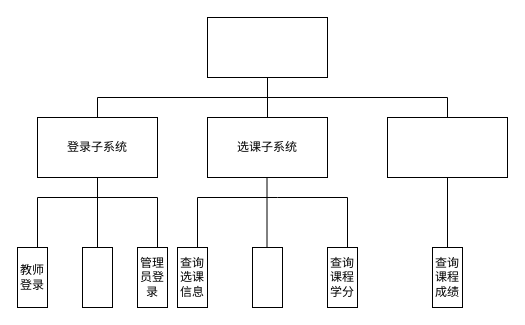
Some shapes in this 525 by 325 pixel diagram are drawn without their labels. Each missing label, with the centre of its shape:
"学生登录" goes at pixel 97 277.
"成绩查询子系统" goes at pixel 447 147.
"智慧校园" goes at pixel 267 47.
"查询选课教室" goes at pixel 267 277.
